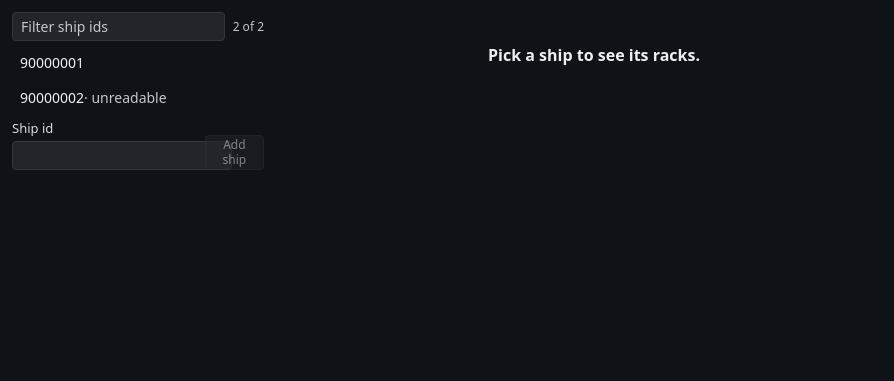
Test case: the racks view › lists every ship and draws the selected one's three racks by label
Click the button "90000001".
click(138, 62)  # box top-left (20, 53), bottom-right (256, 72)
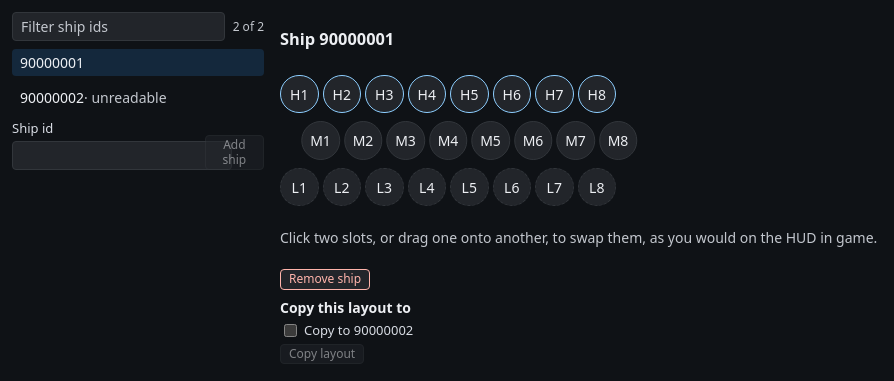
Result: the button "M1" is shown at top-left (301, 121), bottom-right (340, 160)
Result: the button "L8" is shown at top-left (578, 168), bottom-right (616, 206)
